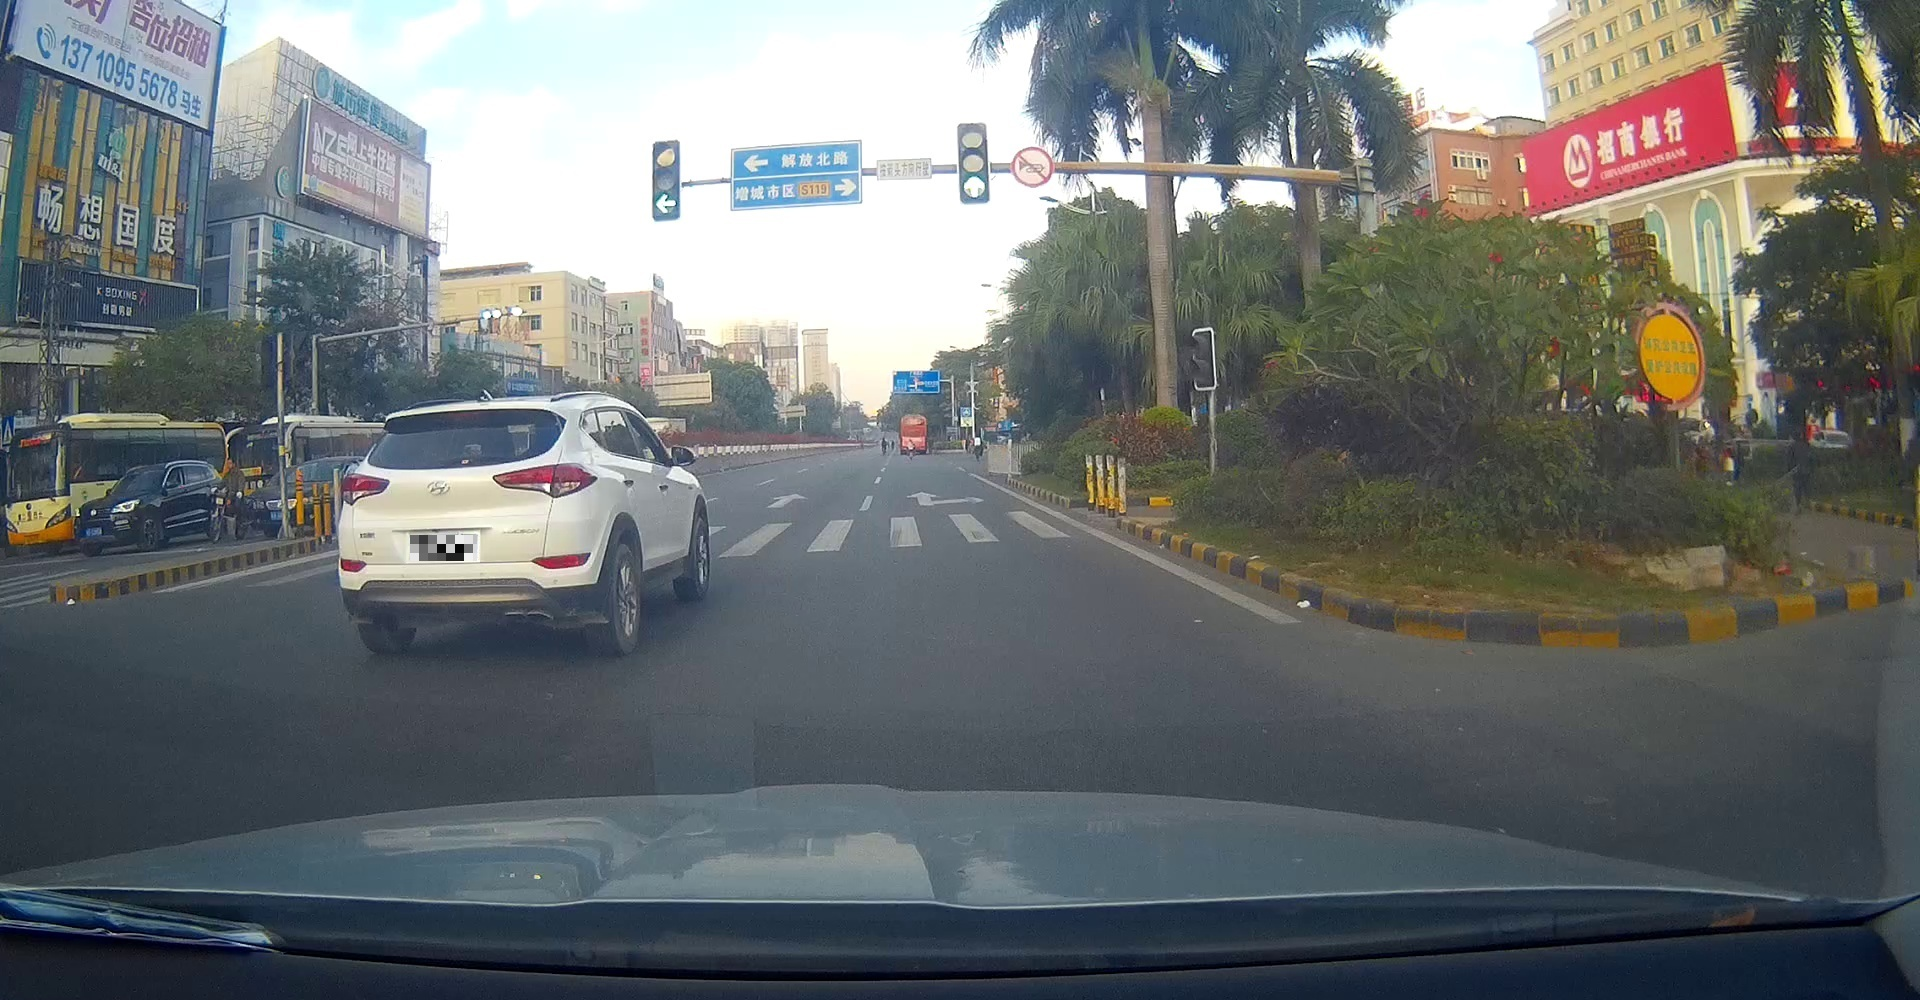L_light: (342, 473, 390, 505)
R_light: (493, 464, 599, 497)
T_light: (430, 412, 476, 423)
day-no: (342, 402, 615, 654)
plate_1: (410, 536, 477, 561)
